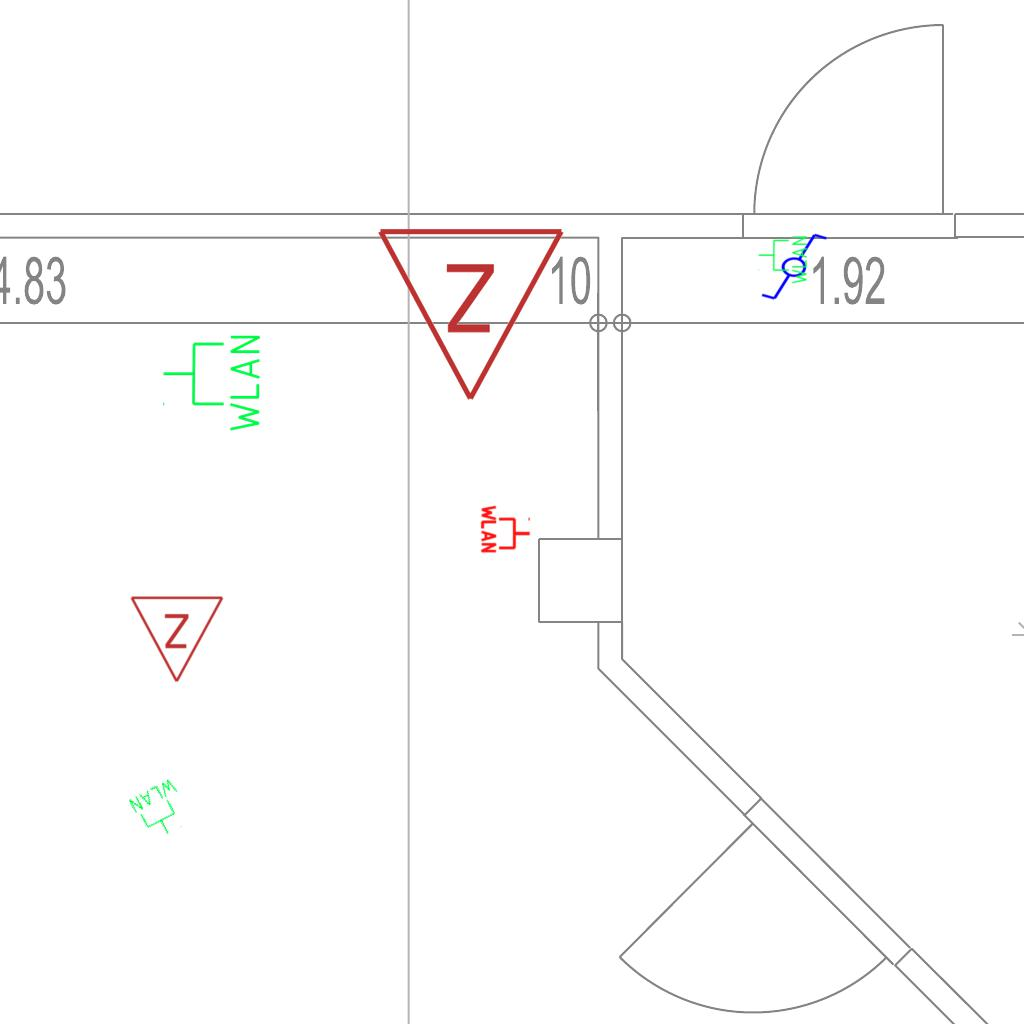WLAN: (160, 331, 264, 436), (125, 774, 197, 846), (480, 503, 532, 555), (757, 234, 809, 286)
Wechselschalter: (751, 230, 829, 302)
Zimmersignalleuchte: (375, 214, 571, 414), (129, 589, 227, 689)
